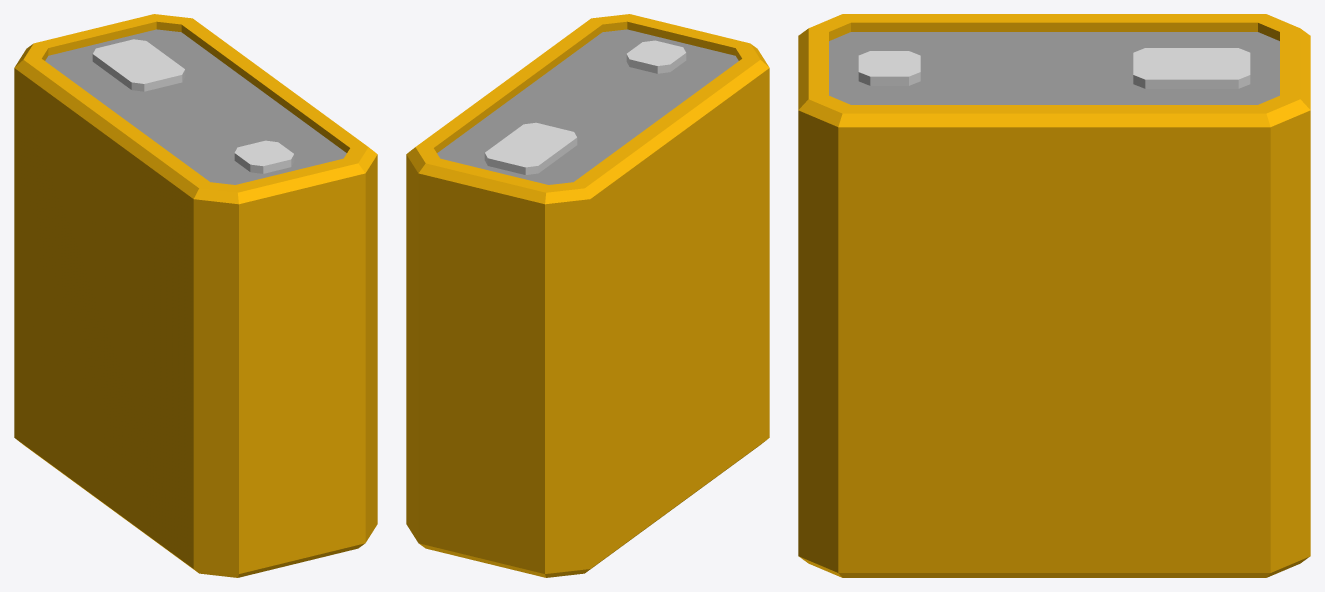
File: epe_battery_cell_single.dae
3 renders of one model, left to right at view 1: azimuth 30°, elevation 25°; view 2: azimuth 150°, elevation 25°; view 3: azimuth 270°, elevation 25°, orthographic. The views are drawn at different scales.
Visible parts, largest first — view 1: battery_cell_single; view 2: battery_cell_single; view 3: battery_cell_single.
Part boxes in pixels (left/top/right/bottom): battery_cell_single: left=14, top=14, right=377, bottom=577; battery_cell_single: left=406, top=14, right=769, bottom=577; battery_cell_single: left=798, top=14, right=1310, bottom=577.
Bounding box in the file's own units: 0.125 × 0.25 × 0.25.
